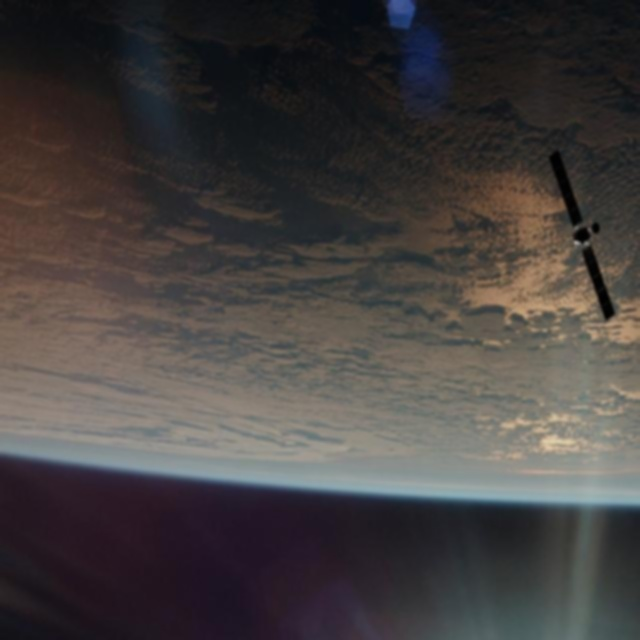satellite: (542, 137, 620, 319)
